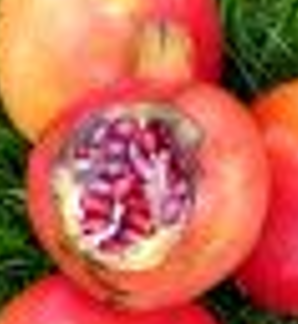pomegranate_C: (25, 20, 270, 309)
